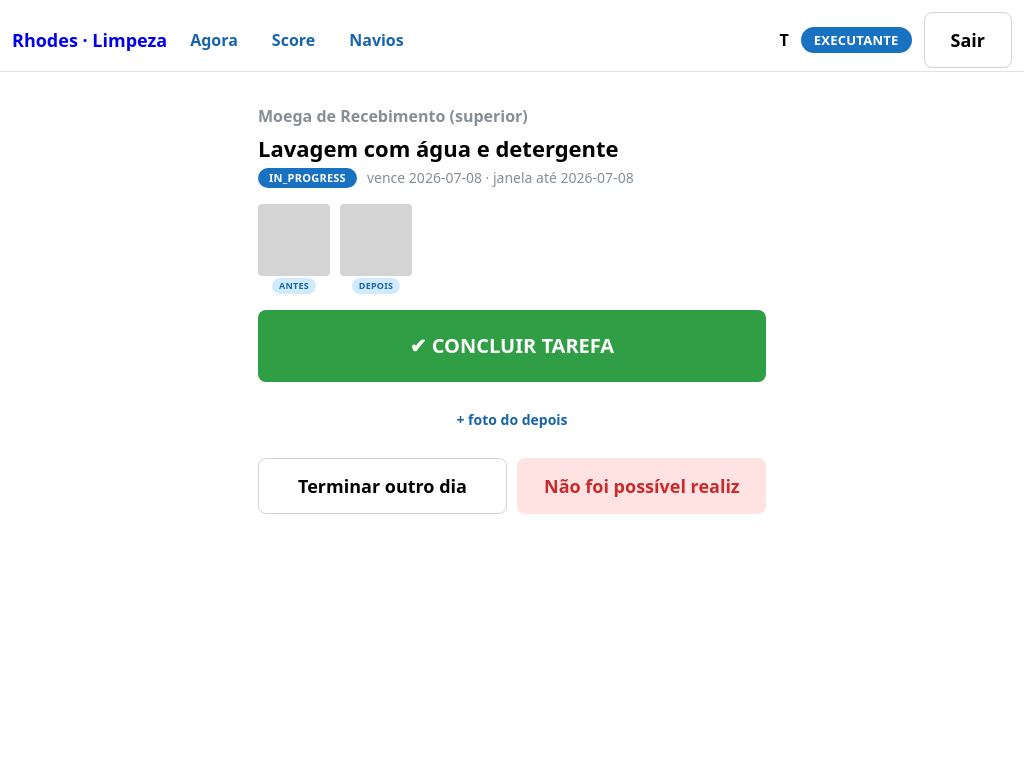
Test case: partes (terminar outro dia) › registra 50% e o ciclo de fotos recomeça na parte 2
Click the button "Terminar outro dia": {"x": 382, "y": 486} x1=258 y1=458 x2=507 y2=514
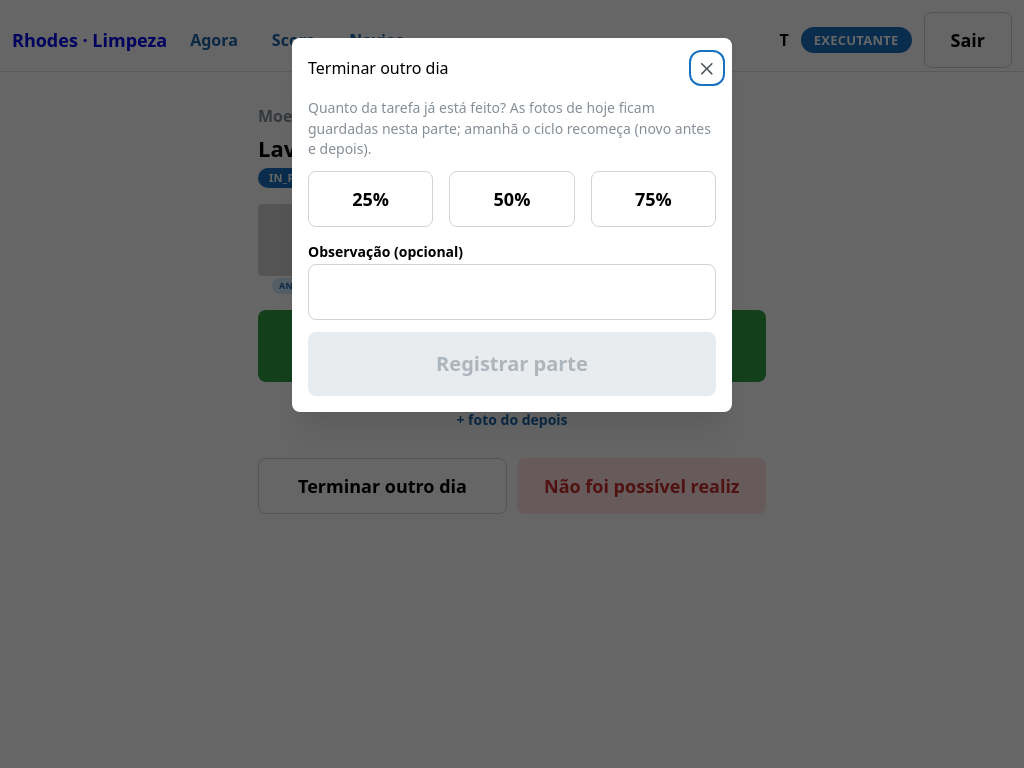
Click the button "50%": {"x": 512, "y": 199} x1=449 y1=171 x2=575 y2=227
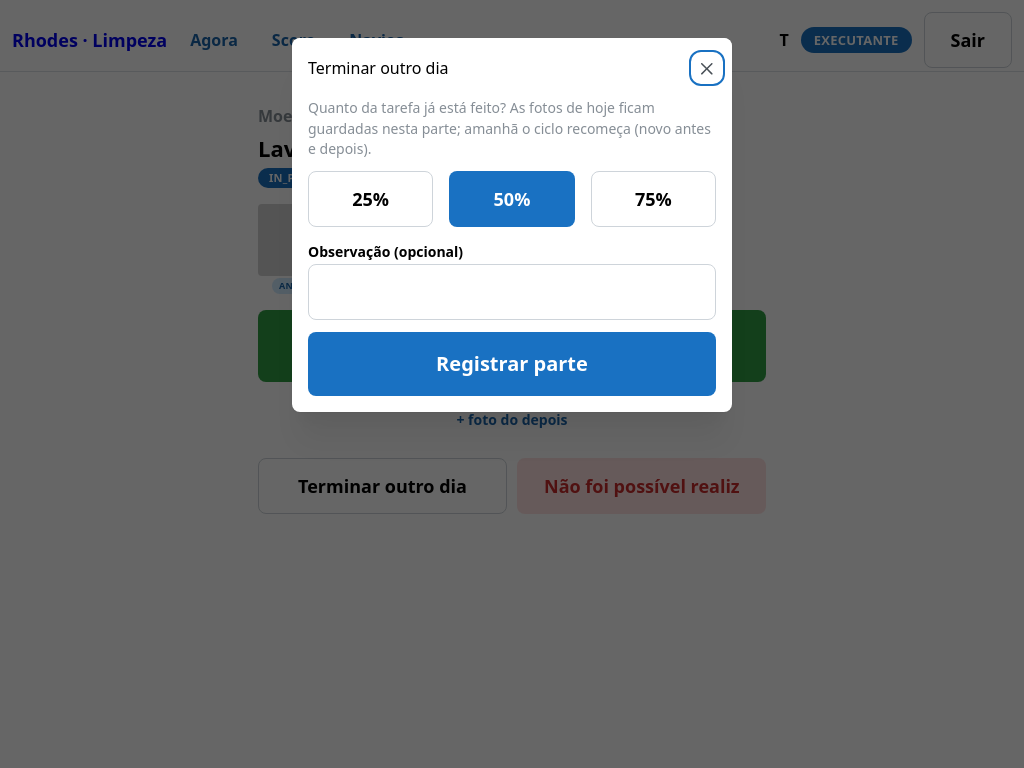
Click the button "Registrar parte": {"x": 512, "y": 364} x1=308 y1=332 x2=716 y2=396
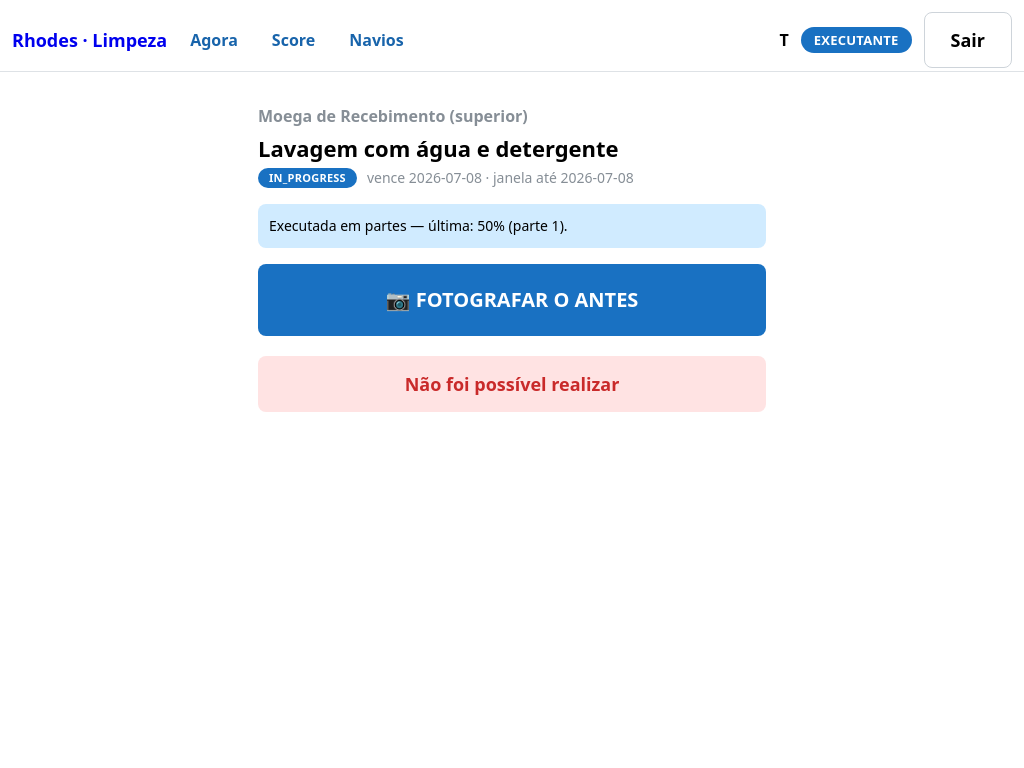
Result: the button "📷 FOTOGRAFAR O ANTES" is shown at x1=258 y1=264 x2=766 y2=336
Result: the text "Executada em partes — última: 50% (parte 1)." is shown at x1=269 y1=216 x2=568 y2=235
Result: the button "CONCLUIR TAREFA" is gone
